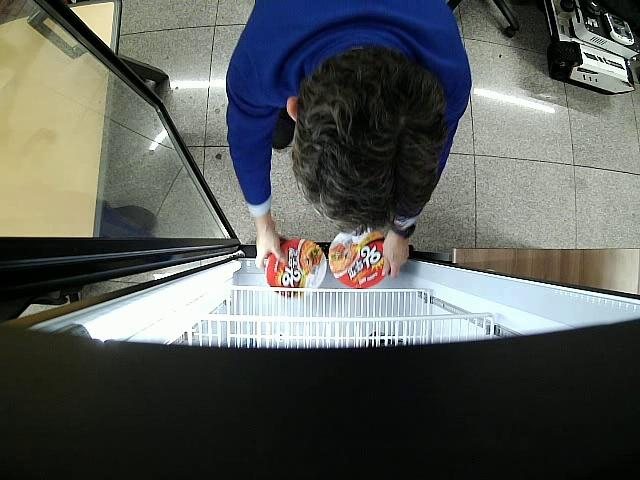00_hand: (256, 225, 288, 269), (380, 233, 409, 279)
10_wangTtukkeong: (265, 240, 327, 301), (329, 228, 388, 290)
